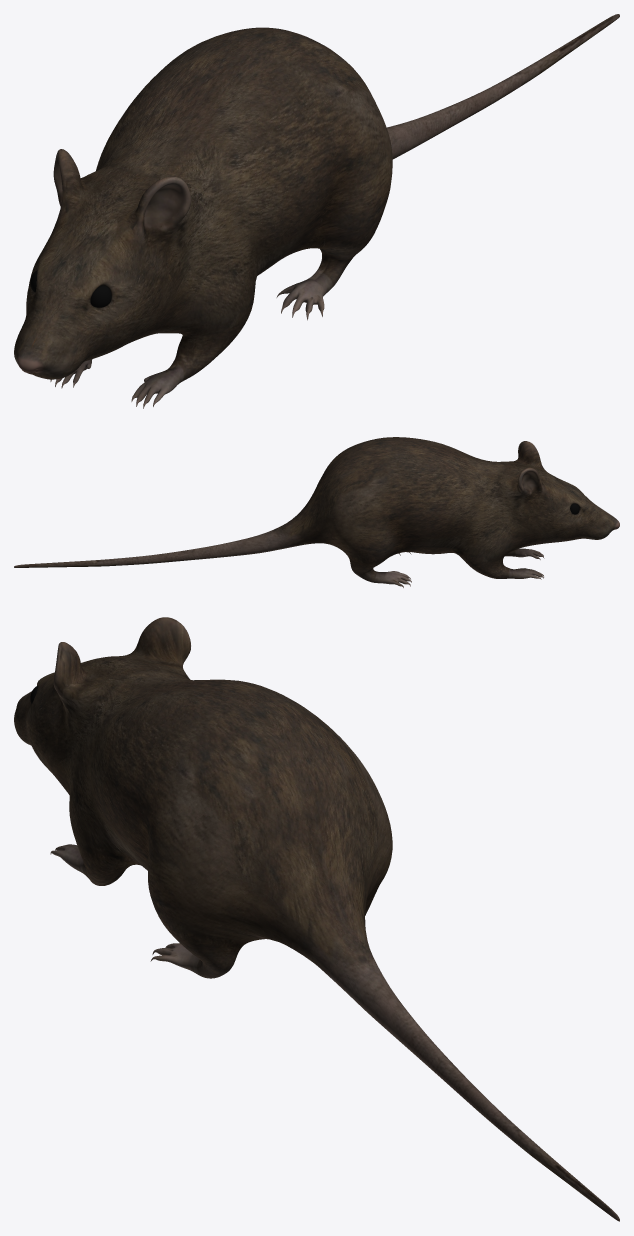
Rendered from SM_PH_street_rat.fbx.
The picture shows the model from 3 angles, top to bottom: view 1: azimuth 30°, elevation 25°; view 2: azimuth 150°, elevation 25°; view 3: azimuth 270°, elevation 25°; orthographic projection. The views are drawn at different scales.
Visible parts, largest first — view 1: SM_PH_street_rat; view 2: SM_PH_street_rat; view 3: SM_PH_street_rat.
Boxes of the visible parts, x1,y1,x2,y2 form: SM_PH_street_rat: [14, 14, 619, 408]; SM_PH_street_rat: [14, 437, 619, 587]; SM_PH_street_rat: [14, 617, 619, 1221].
Size of the model in its own units: 0.1545 by 0.0907 by 0.0406.
Materials: 1 (1 with a texture image).
